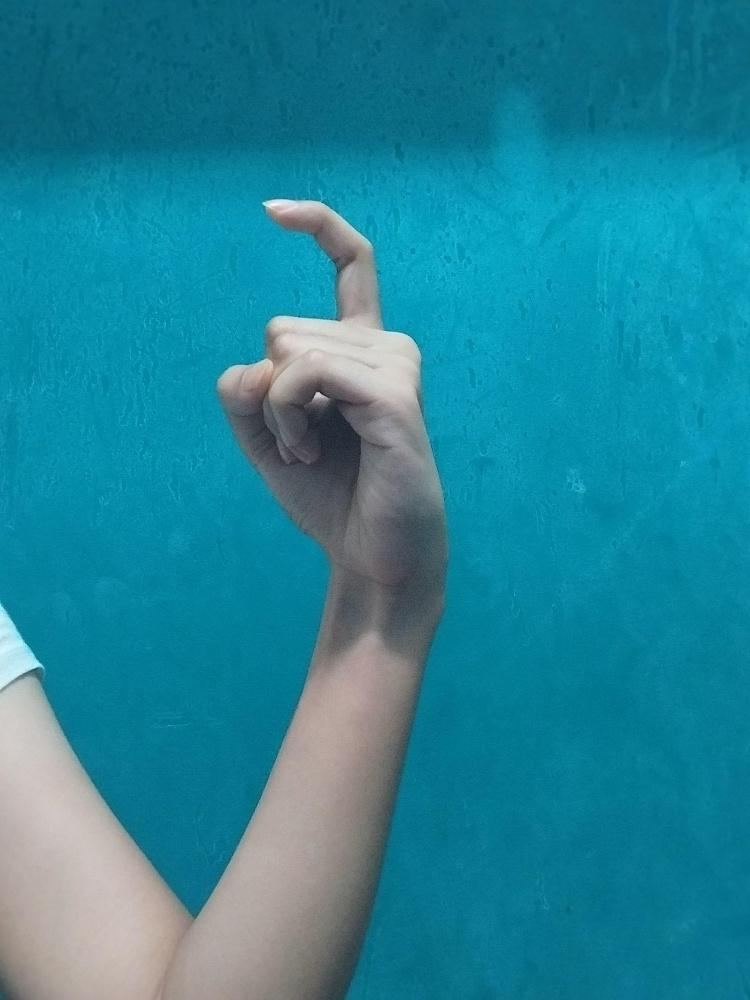x: (215, 194, 452, 610)
